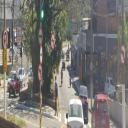NoVirarEsquerda: (120, 43, 126, 66), (38, 65, 42, 83), (51, 32, 55, 50)
NoVirarU: (2, 27, 8, 51)
